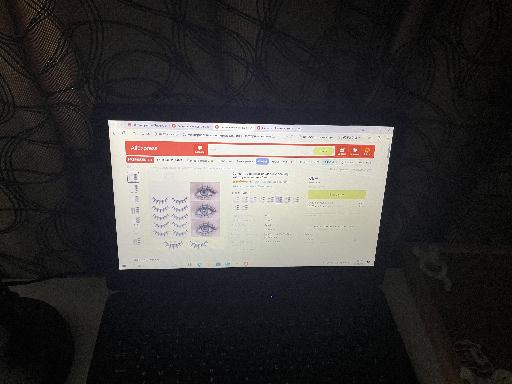aliexpress: (118, 142, 378, 254)
